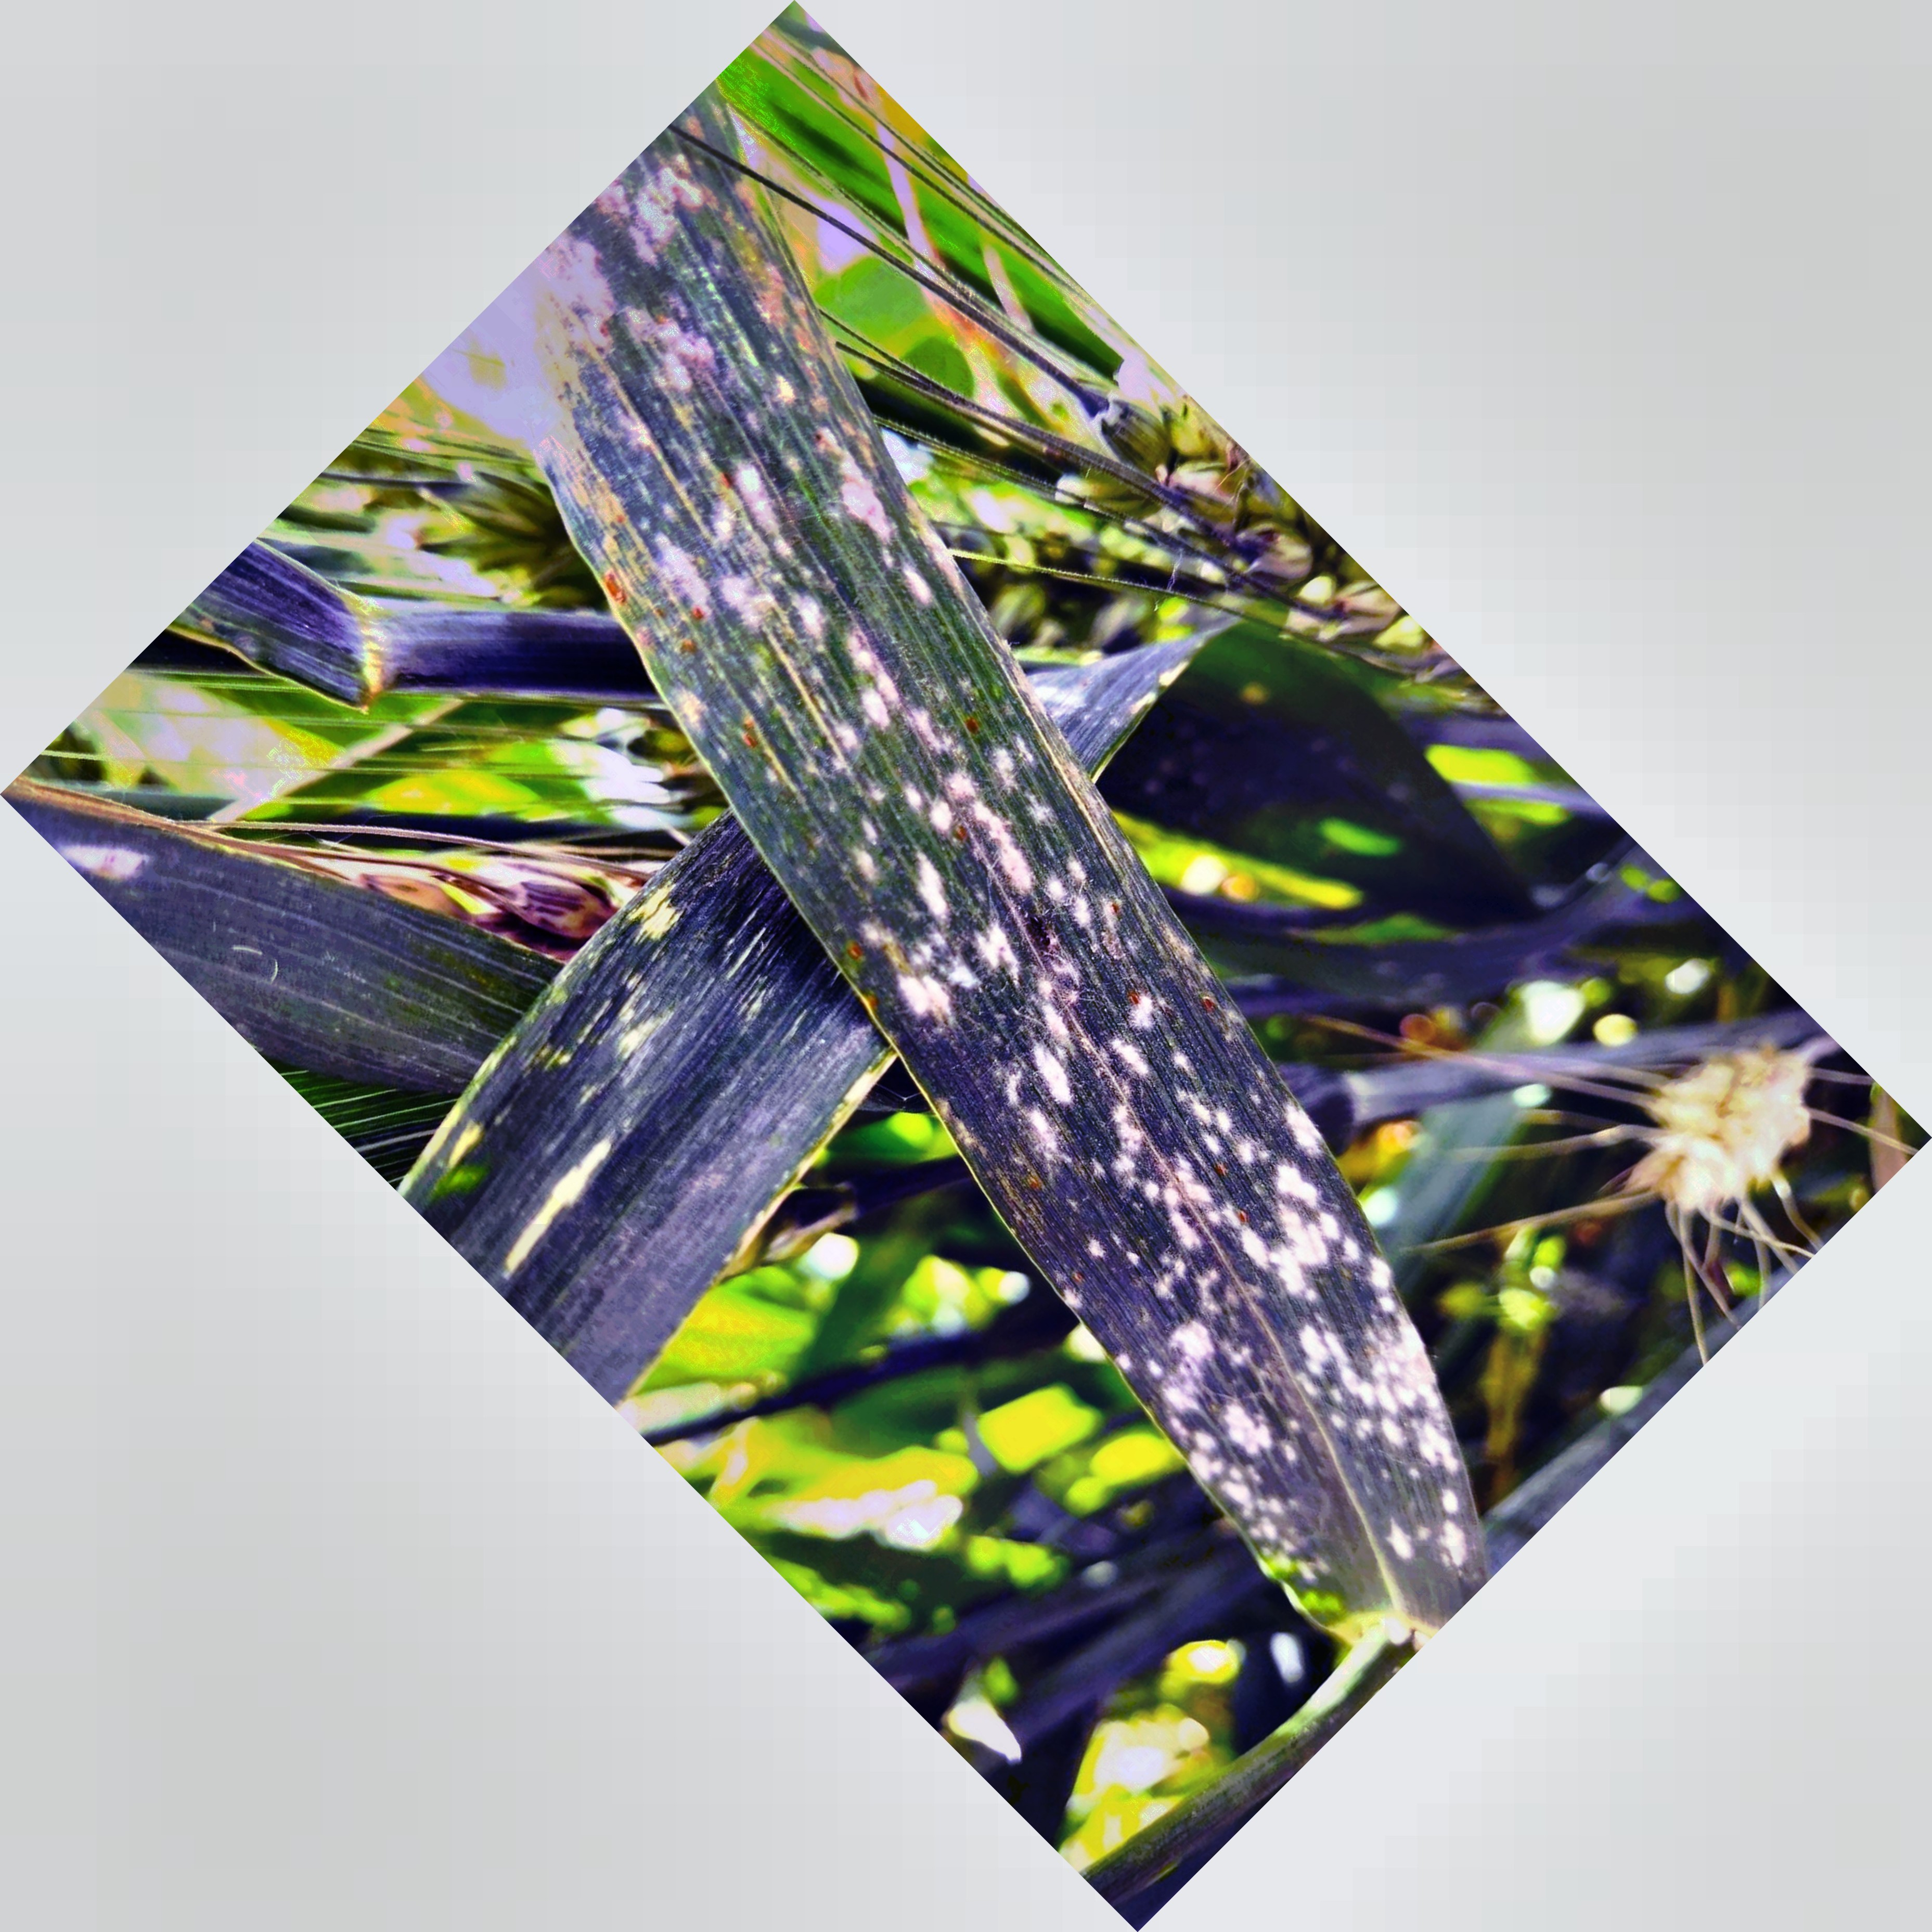Powdery Mildew: (589, 326, 1407, 1522)
